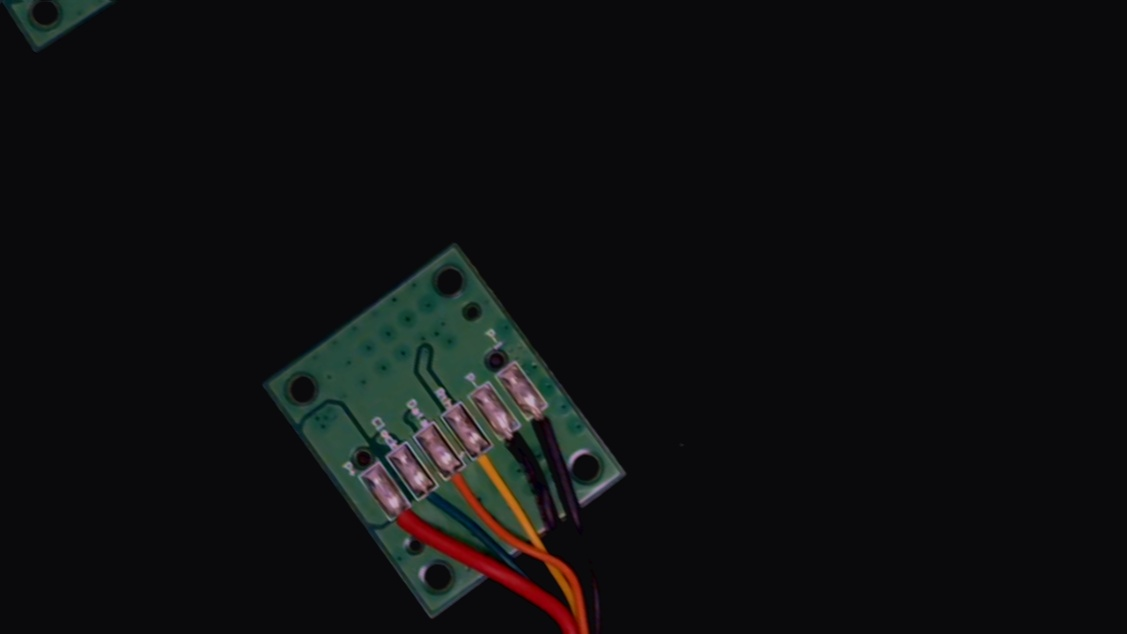Black: (490, 412, 546, 478)
Black1: (519, 395, 568, 452)
Green: (407, 469, 466, 537)
Orange: (435, 450, 494, 518)
Red: (380, 491, 440, 558)
Yellow: (463, 432, 518, 497)
